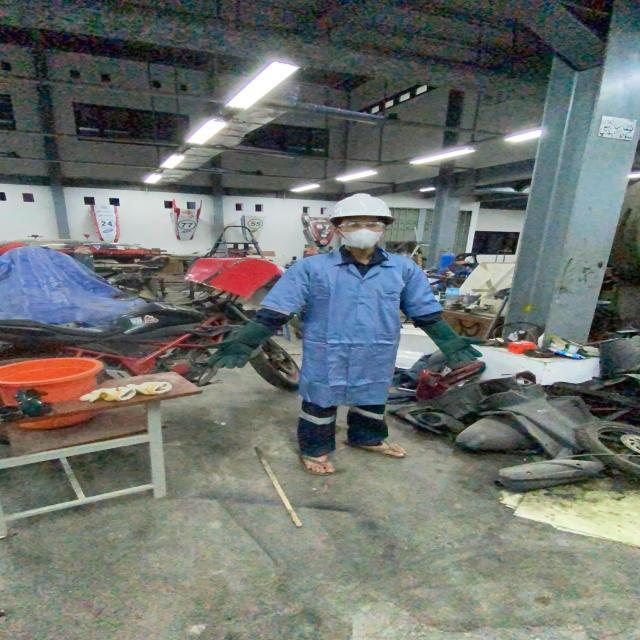glasses: (334, 218, 392, 229)
